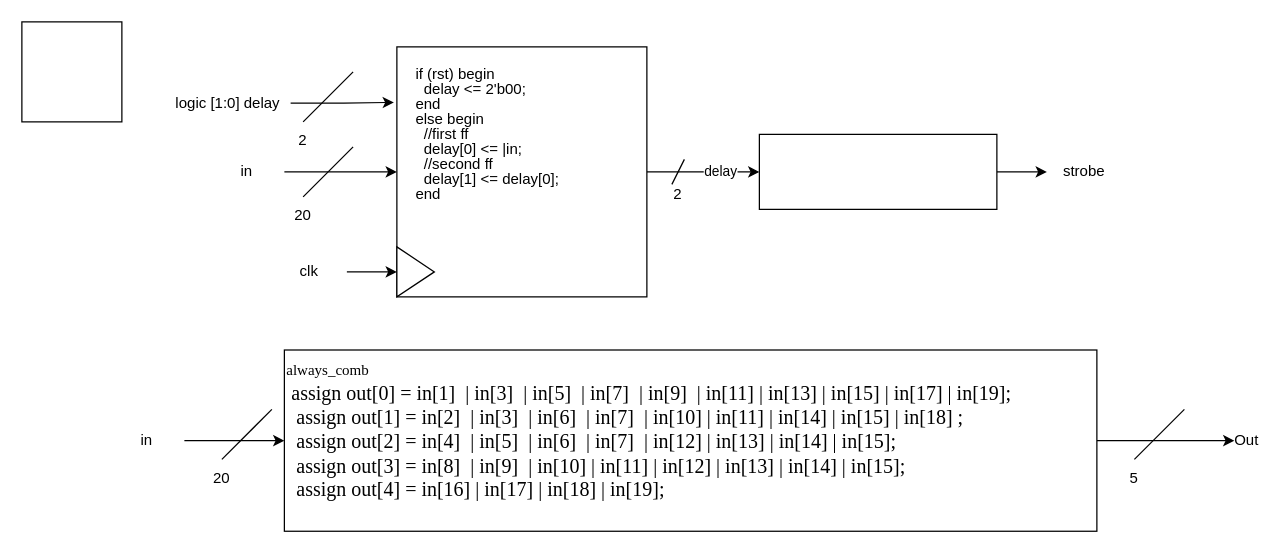
Some shapes in this 1281 by 556 pixel diagram are drawn without their labels. The shapes that lost their labels are listed below. From the top down, each one's box as (x1, y1, x2, y2) in pixels, then its label:
(21, 21, 122, 122): Scankey
(758, 133, 997, 209): assign strobe = delay[1];
